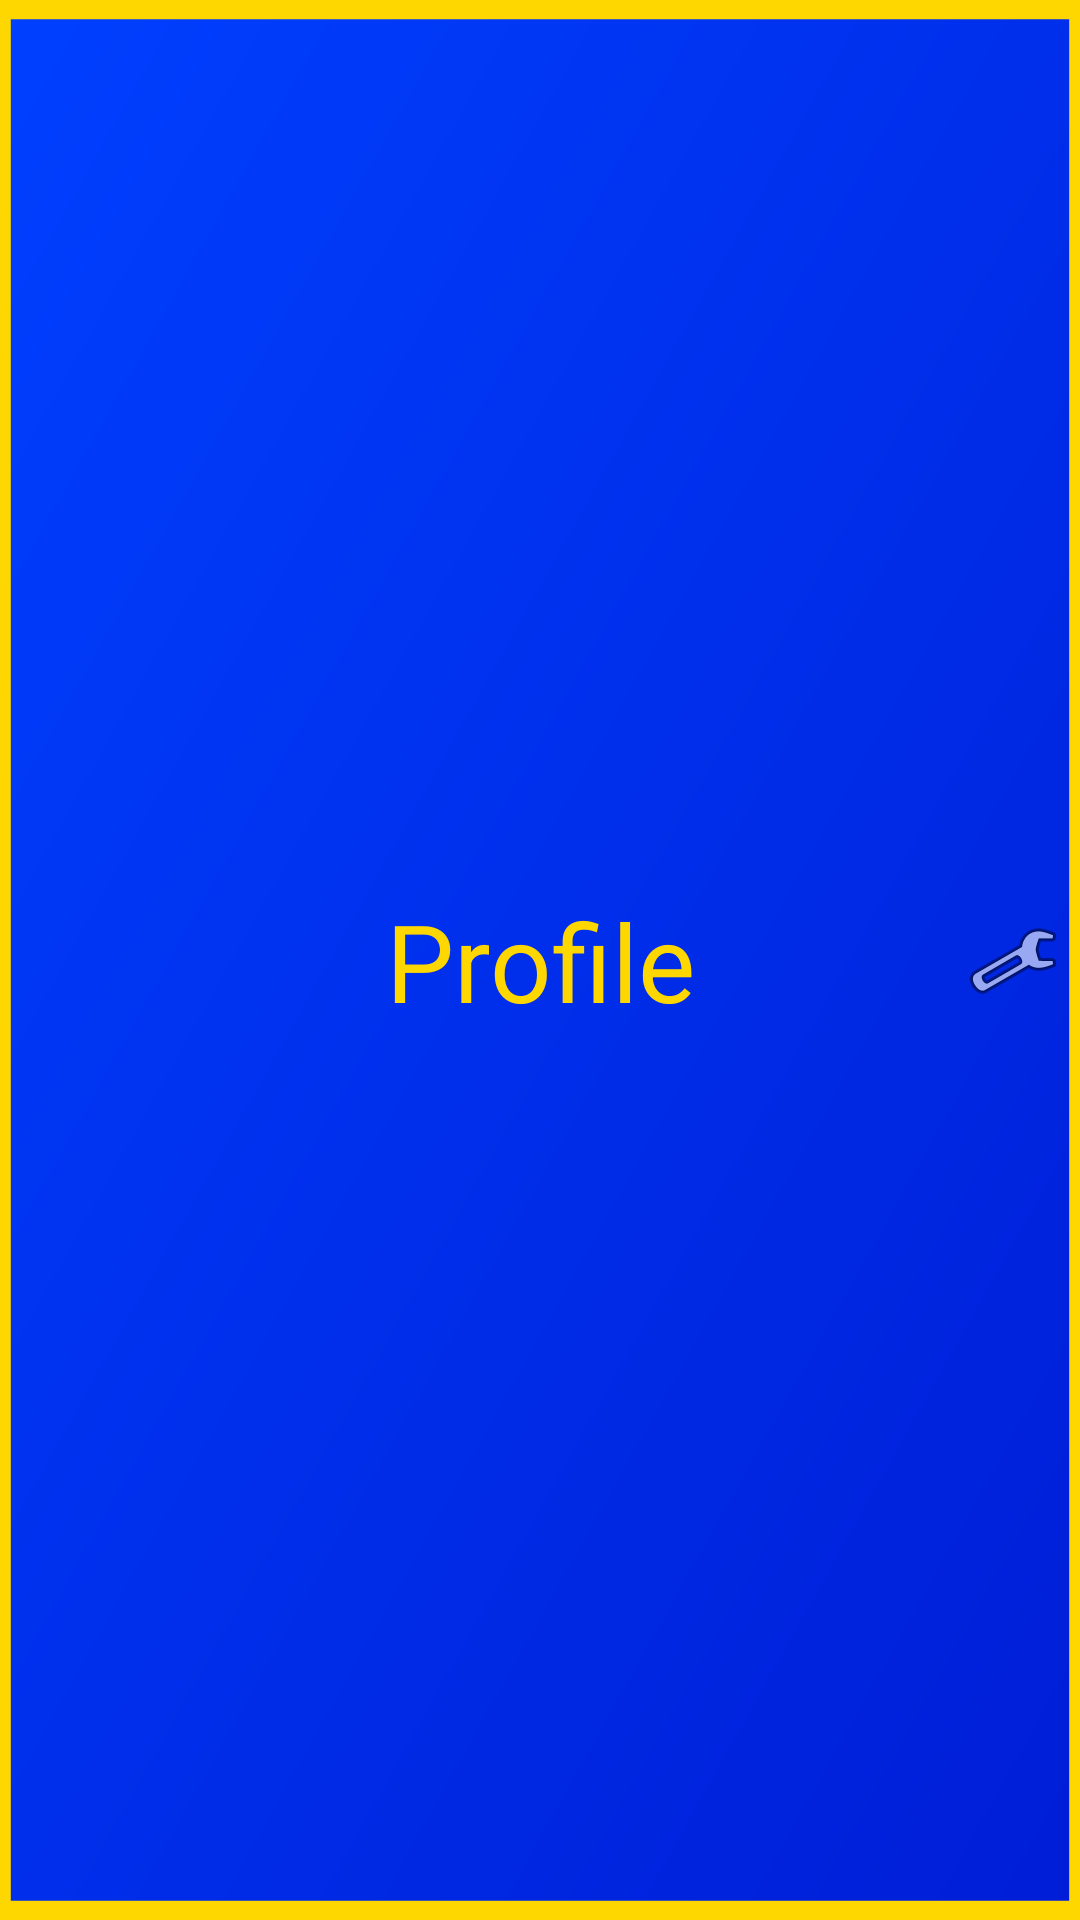

Icons on this 1080×1920 Android screen, each with the point to tap as (x,y):
preferences: (1013,961)
